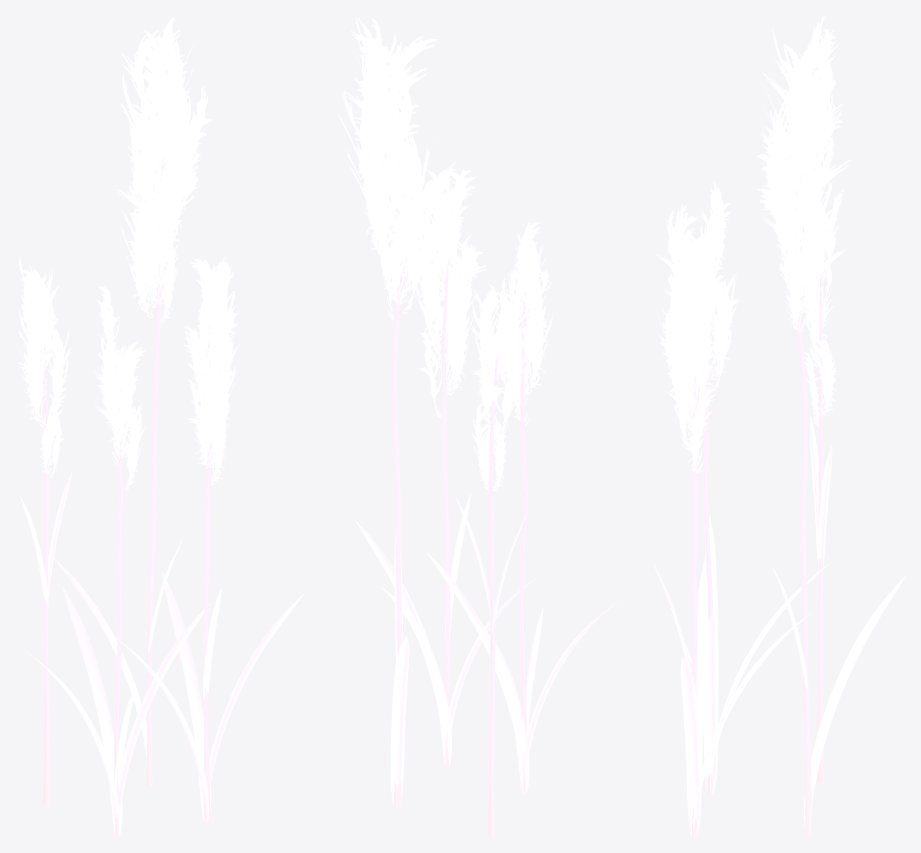
The picture shows the model from 3 angles, left to right: view 1: azimuth 30°, elevation 25°; view 2: azimuth 150°, elevation 25°; view 3: azimuth 270°, elevation 25°; orthographic projection. The views are drawn at different scales.
Visible parts, largest first — view 1: SM_LongGrass_01_LOD0; view 2: SM_LongGrass_01_LOD0; view 3: SM_LongGrass_01_LOD0.
Part boxes in pixels (box(x1,y1,x2,y2)): SM_LongGrass_01_LOD0: box(17, 17, 304, 838); SM_LongGrass_01_LOD0: box(337, 17, 620, 838); SM_LongGrass_01_LOD0: box(653, 15, 905, 838).
Size of the model in its own units: 0.7153 by 1.92 by 0.5326.
1 material, 1 textured.
